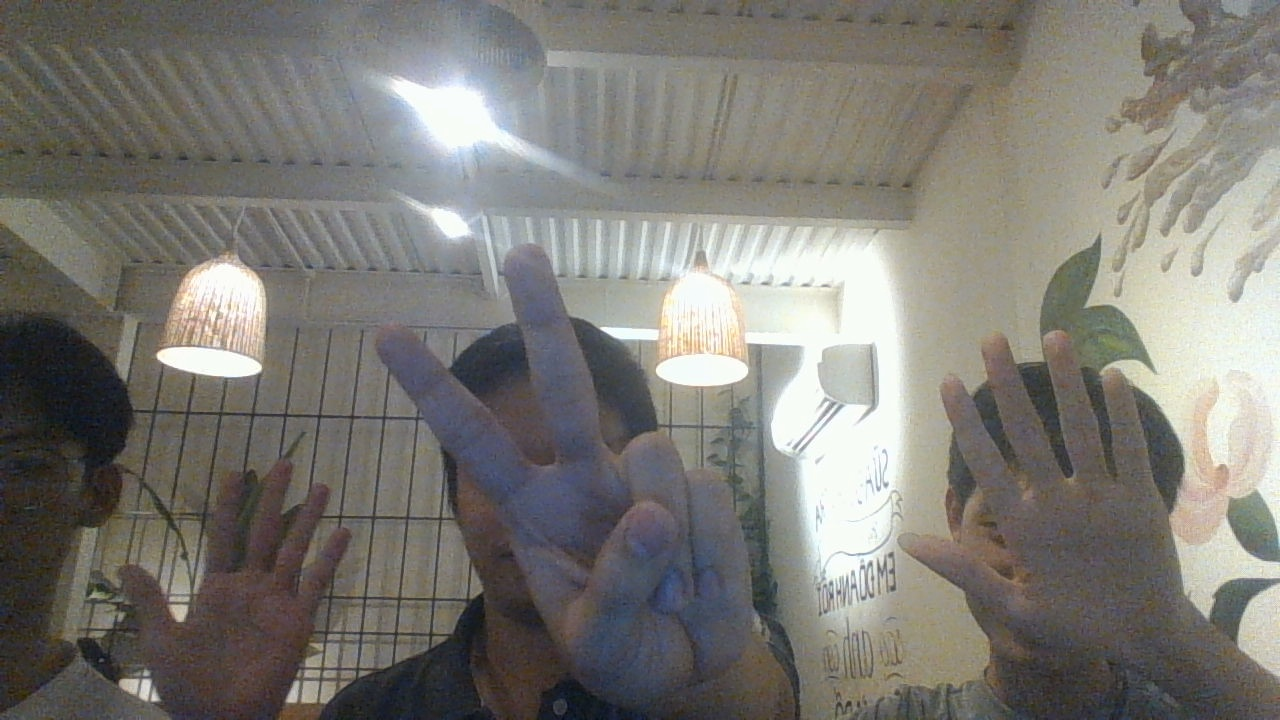check: (899, 330, 1188, 671), (125, 461, 352, 720)
wait: (378, 242, 763, 704)
